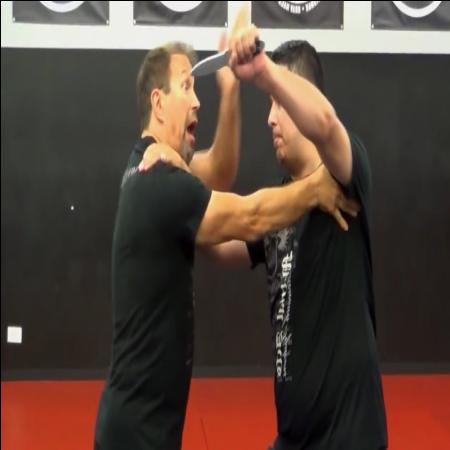long weapon: (187, 21, 268, 80)
